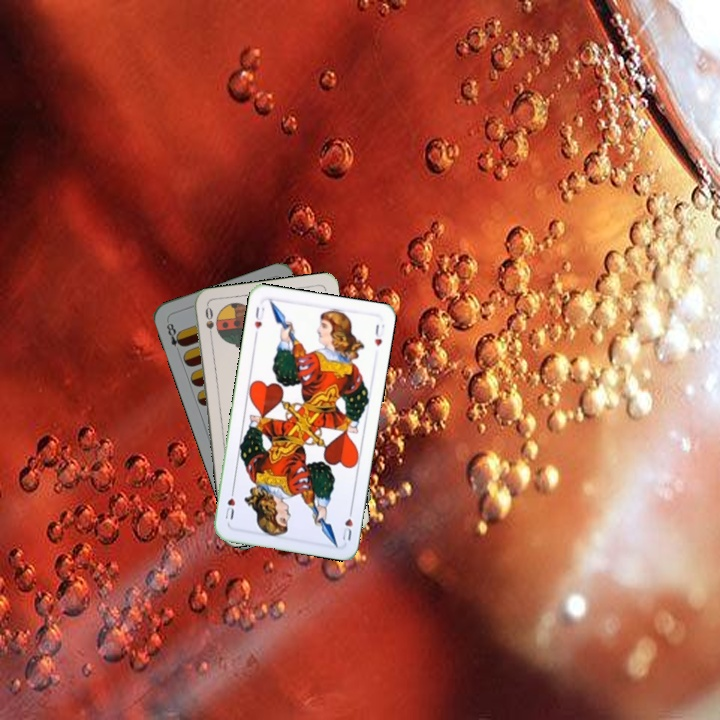E8: (162, 317, 186, 349)
HU: (338, 504, 355, 543), (250, 303, 267, 339)
SO: (201, 303, 216, 343)
